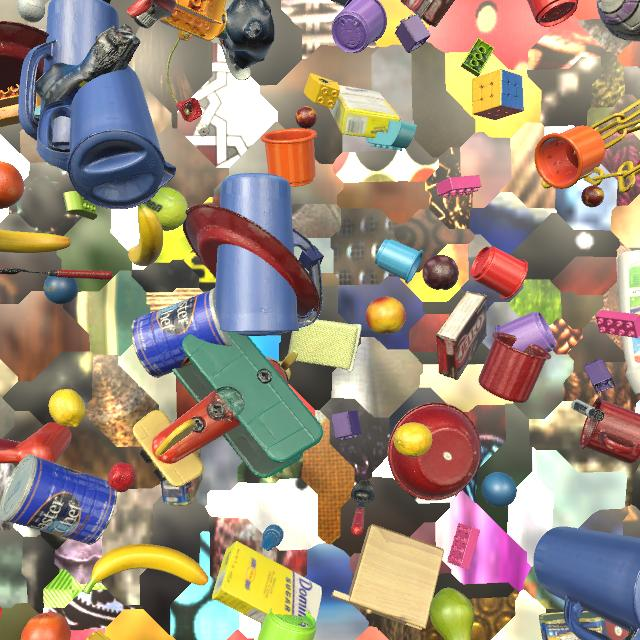ycb_002_master_chef_can: (0, 454, 117, 545), (131, 288, 232, 378)
ycb_004_sugar_box: (212, 541, 322, 627), (329, 85, 401, 138)
ycb_008_pudding_box: (436, 290, 487, 380), (400, 0, 455, 27)
ycb_010_potted_meat_can: (161, 449, 203, 506), (539, 611, 608, 640)
ycb_011_banana: (83, 544, 209, 594), (128, 203, 163, 267), (0, 230, 71, 253)
ycb_012_strawberry: (108, 463, 136, 492)
ycb_014_lemon: (49, 389, 86, 427), (393, 422, 432, 457)
ycb_015_peach: (365, 297, 406, 334)
ycb_016_pear: (429, 588, 475, 640)
ycb_017_orange: (21, 612, 71, 640), (0, 161, 24, 209)
ycb_018_plum: (422, 255, 459, 290)
